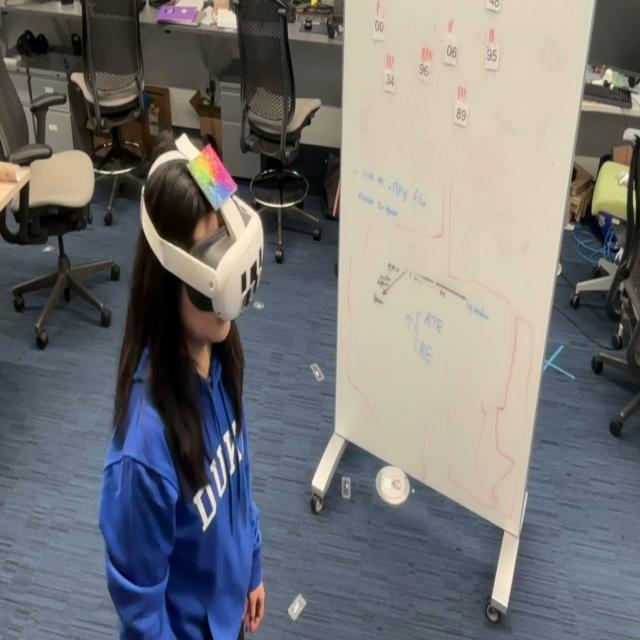Headset: (139, 137, 264, 322)
Marker: (188, 143, 242, 219)
